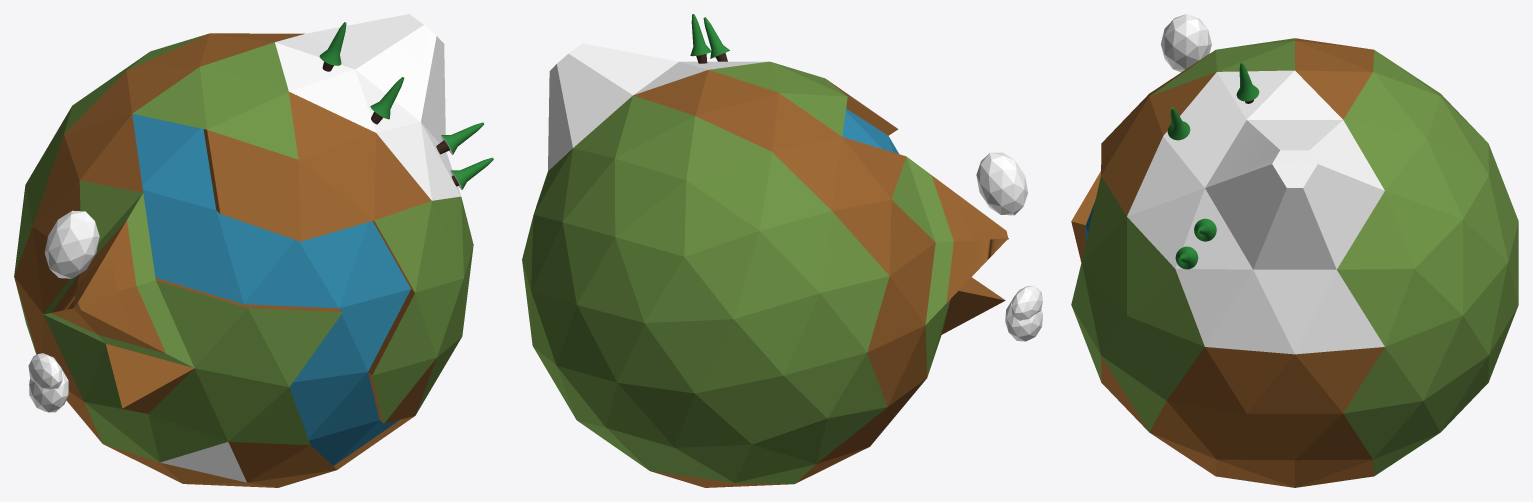
Rendered from mine.glb.
The picture shows the model from 3 angles, left to right: view 1: azimuth 30°, elevation 25°; view 2: azimuth 150°, elevation 25°; view 3: azimuth 270°, elevation 25°; orthographic projection. The views are drawn at different scales.
Parts seen in each view (by area): view 1: GeoSphere001; view 2: GeoSphere001; view 3: GeoSphere001.
Part boxes in pixels (x1,y1,x2,y2): GeoSphere001: (14, 14, 493, 487); GeoSphere001: (522, 14, 1042, 487); GeoSphere001: (1071, 14, 1518, 487).
Size of the model in its own units: 12.09 by 11.08 by 10.21.
